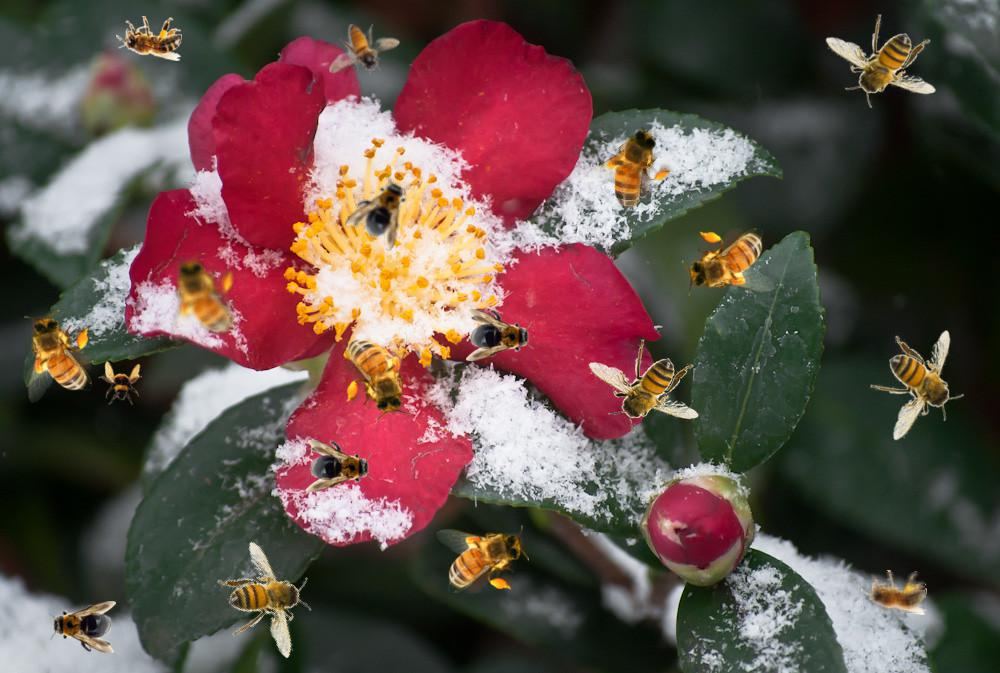Bee: (194, 530, 339, 673), (574, 112, 690, 227), (870, 330, 964, 441), (588, 339, 699, 433), (825, 14, 936, 108), (344, 166, 422, 252), (682, 228, 775, 296), (343, 327, 411, 420), (24, 310, 92, 403), (169, 253, 237, 346), (436, 525, 529, 593), (329, 24, 400, 74), (466, 309, 534, 361), (48, 601, 116, 653), (306, 440, 374, 492), (116, 16, 182, 61), (861, 570, 927, 615), (98, 361, 142, 405)
